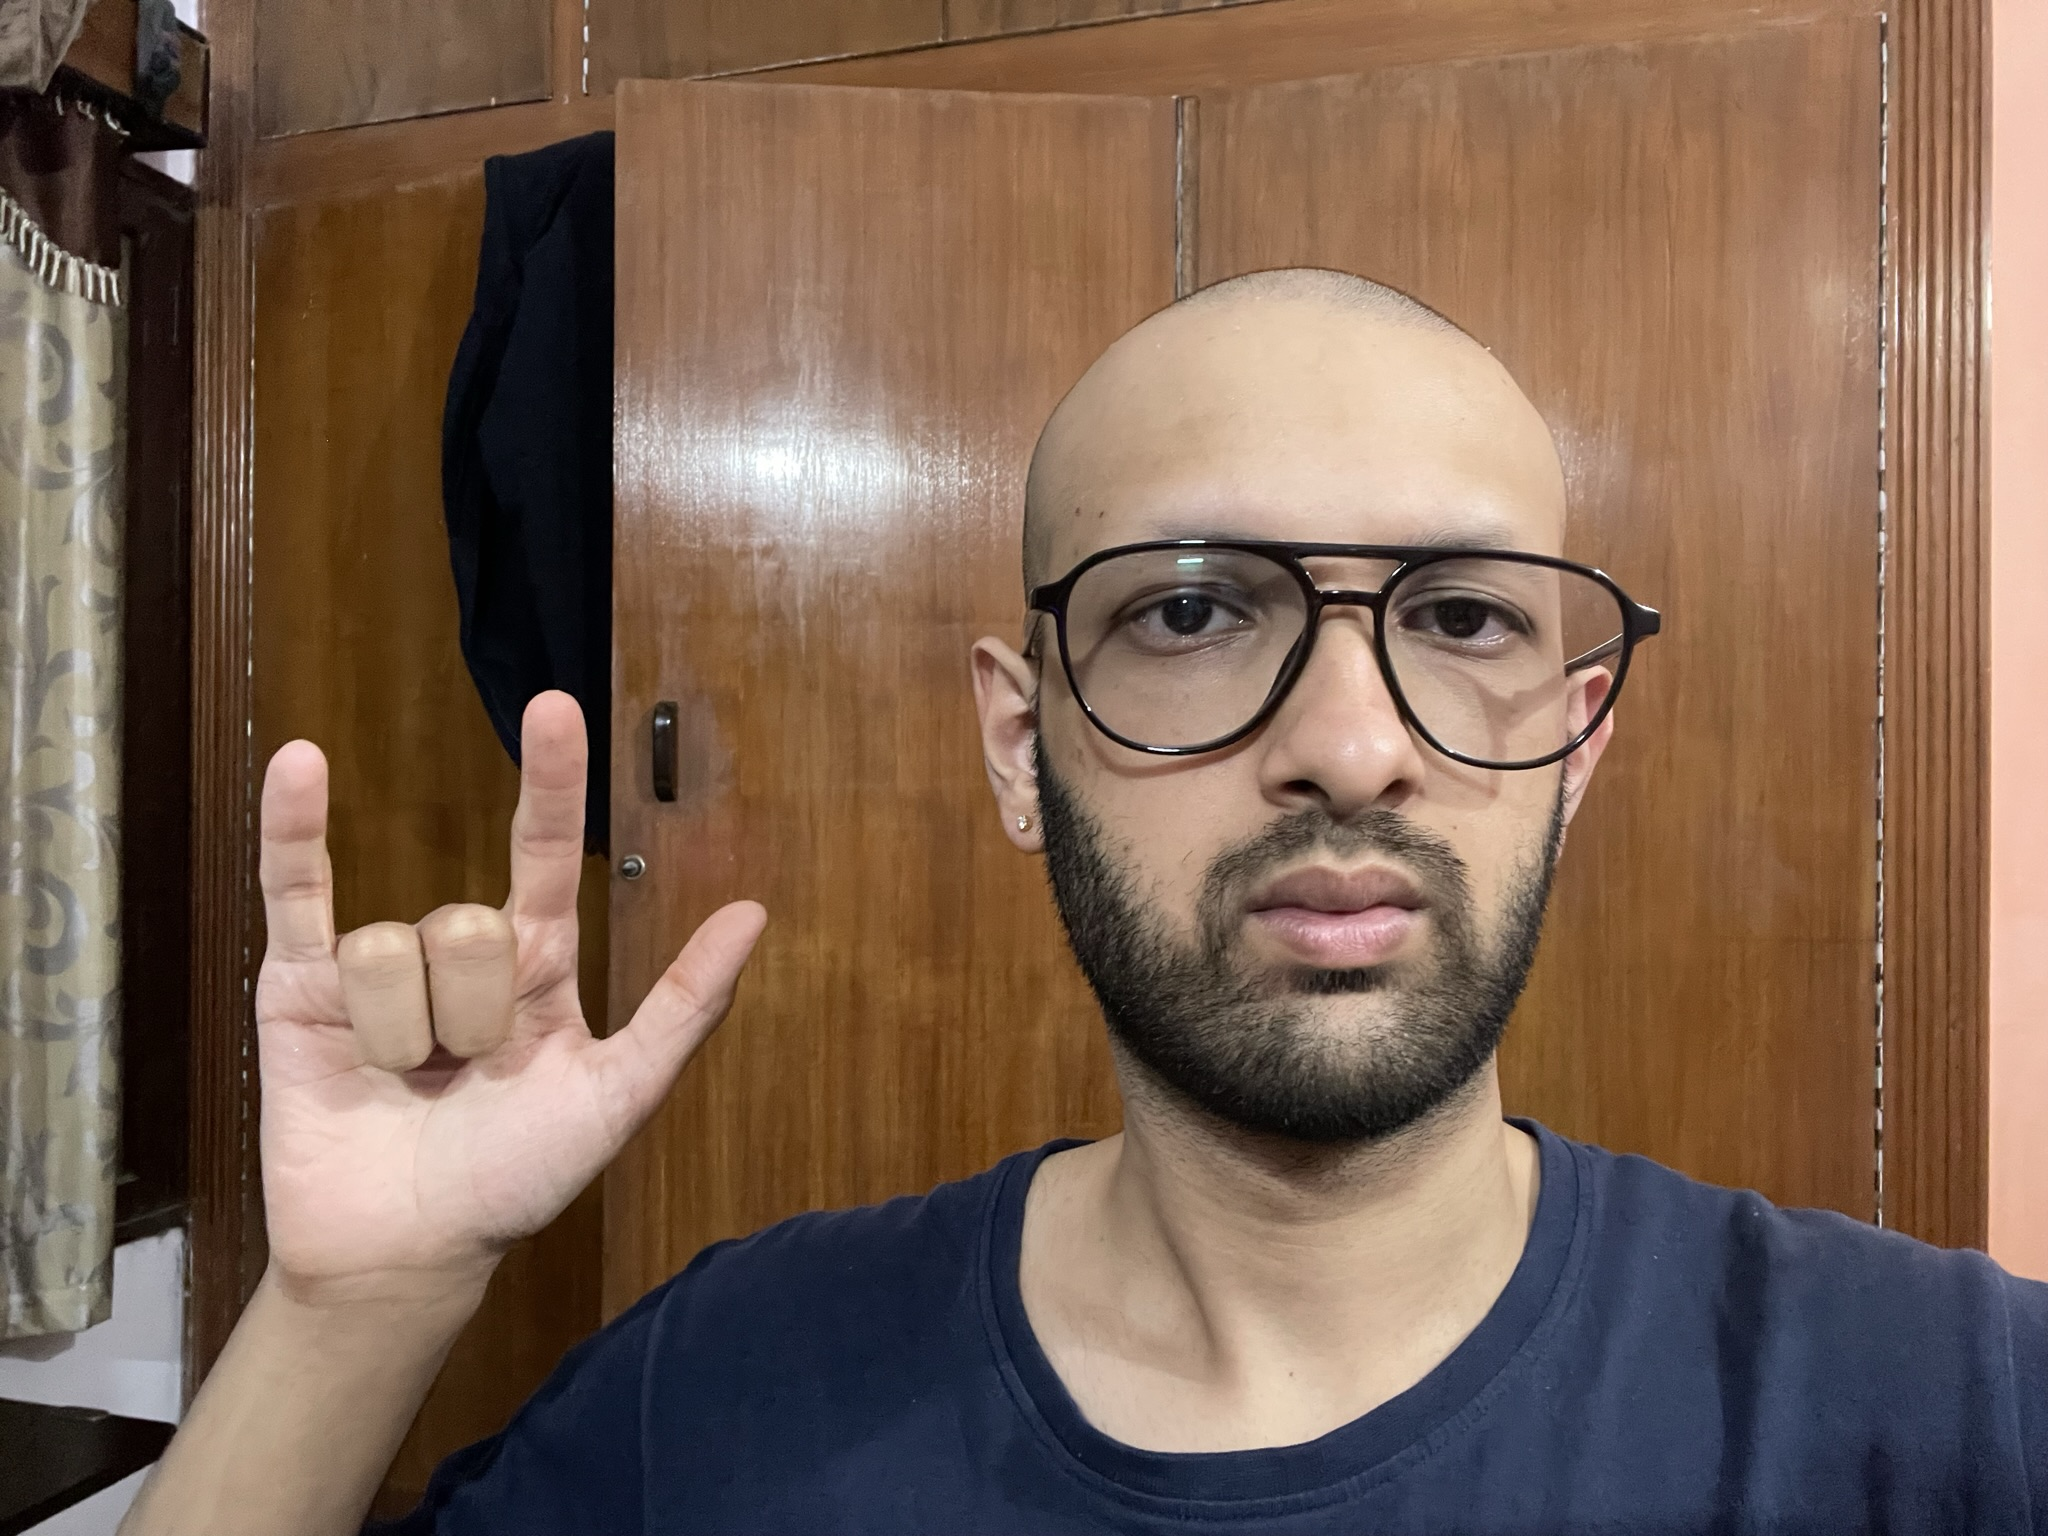I Love You: (239, 678, 771, 1296)
